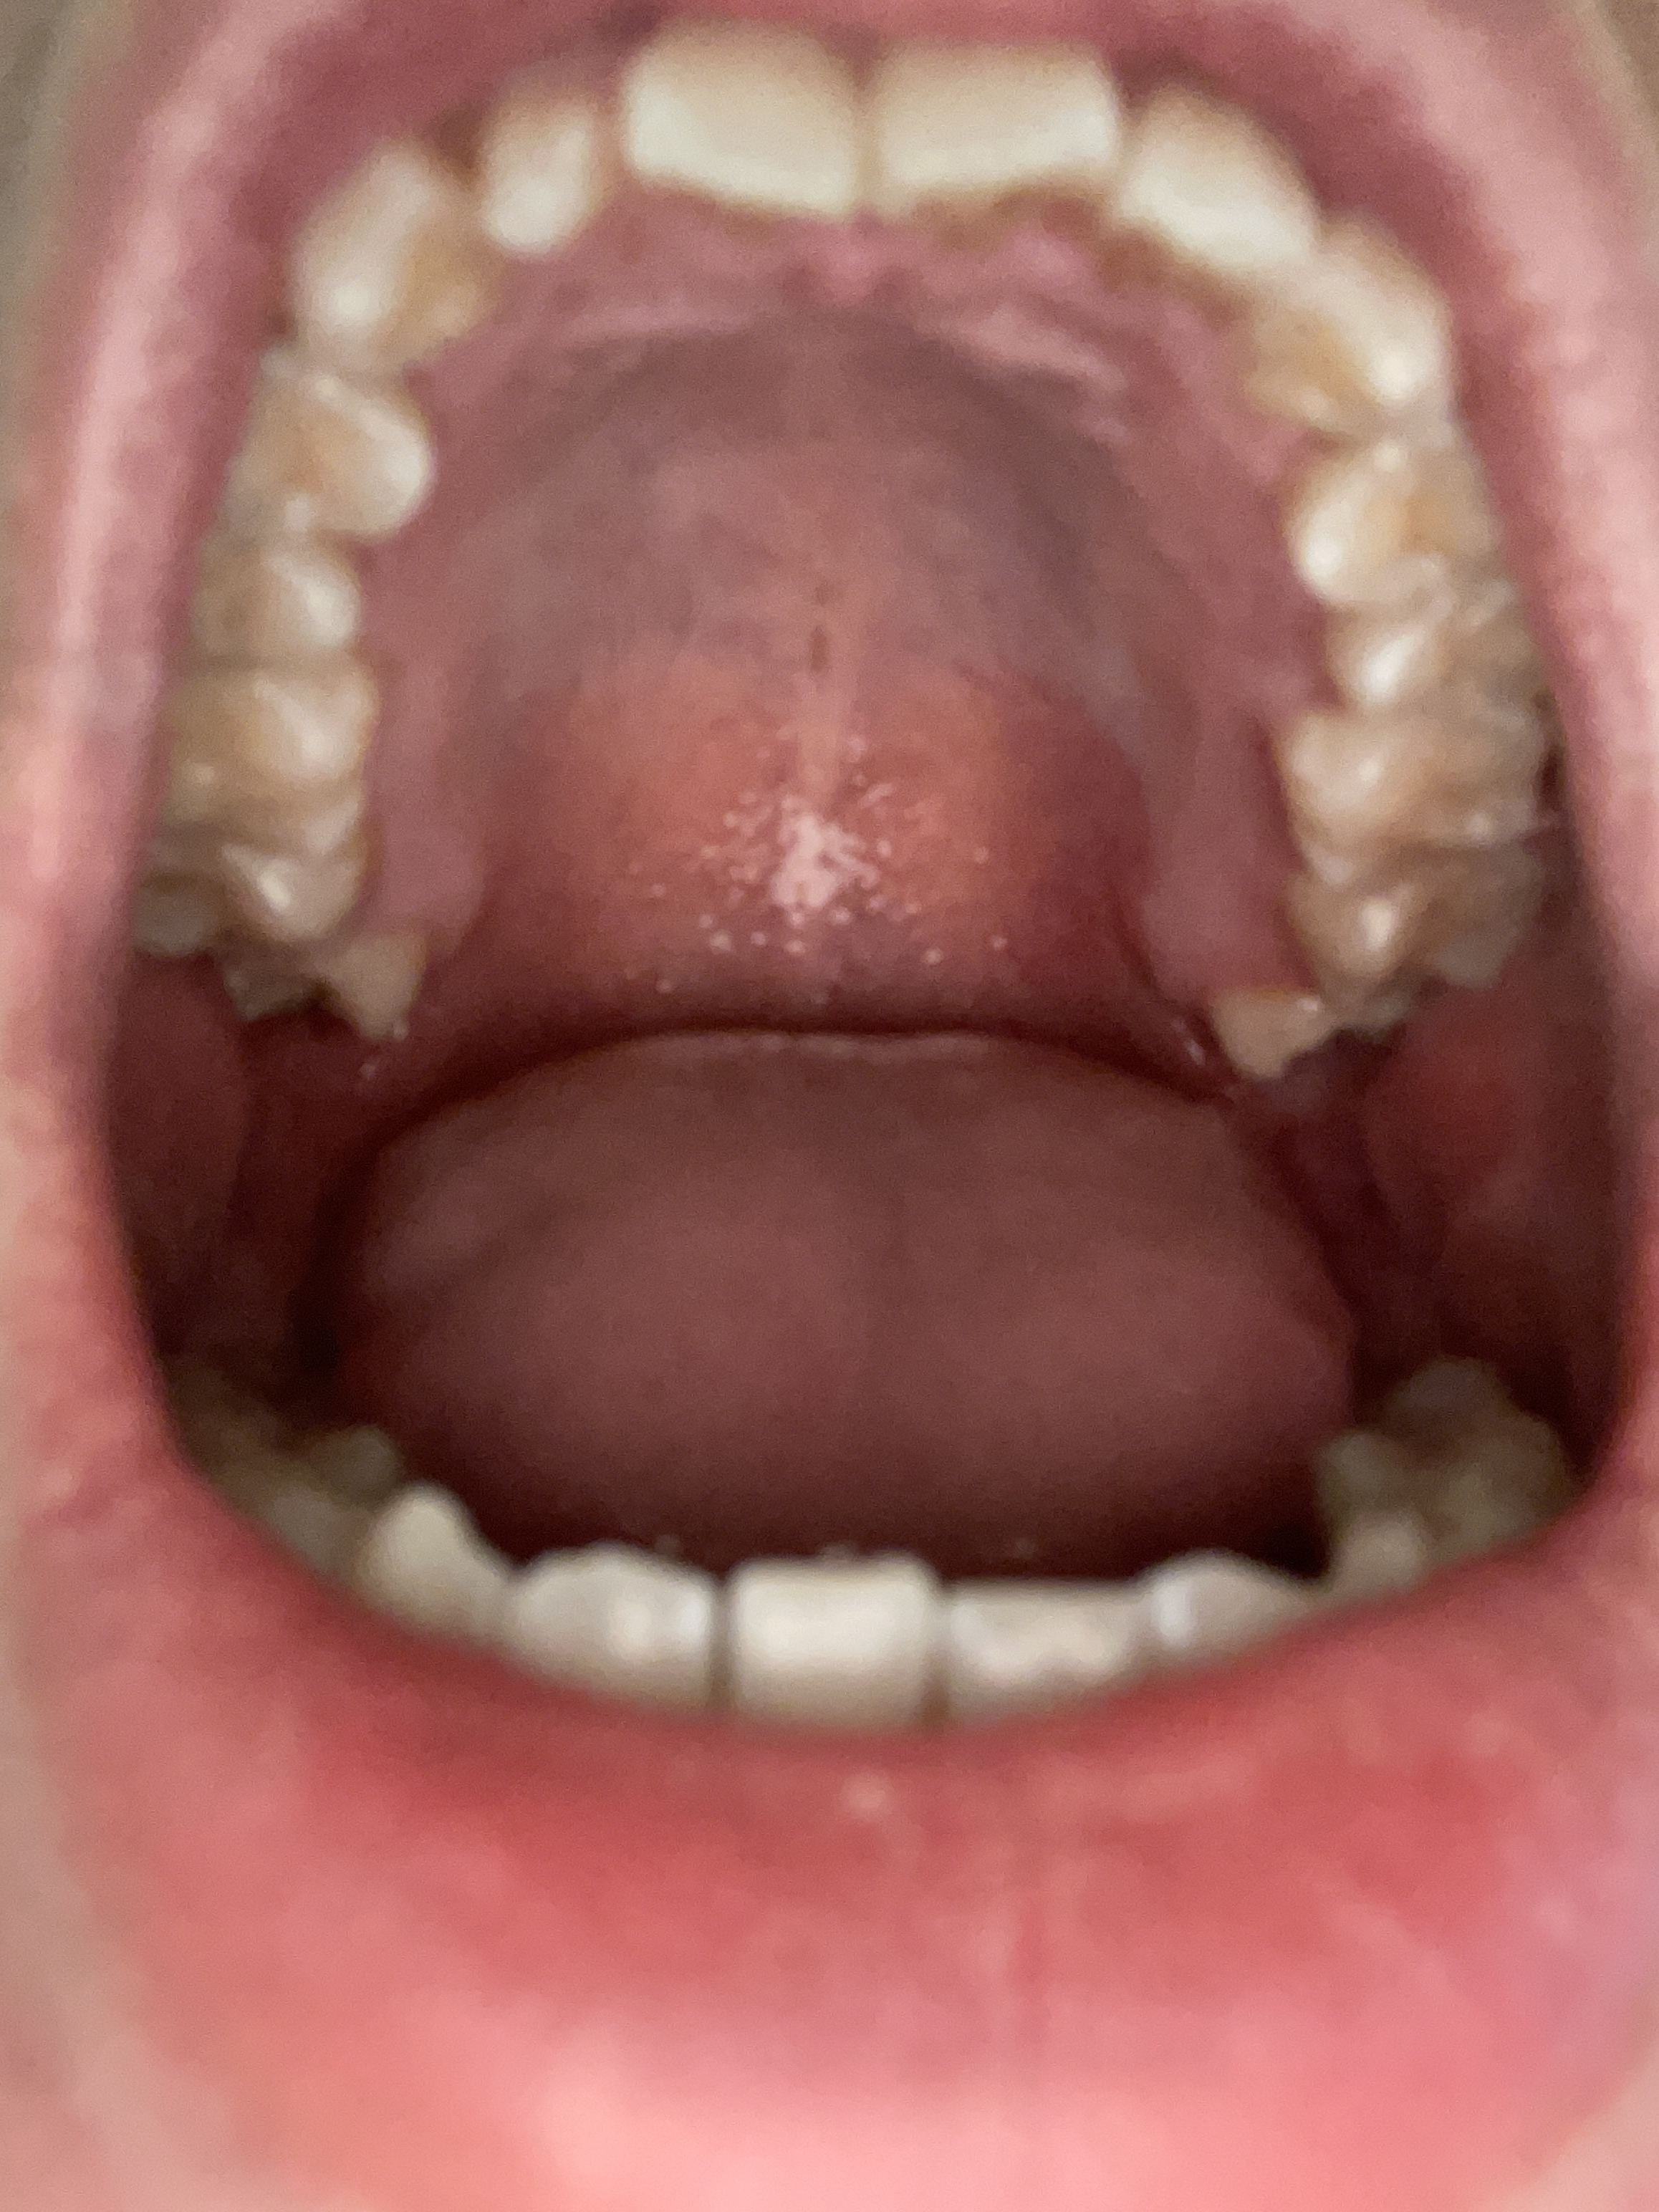teeth: (617, 14, 852, 221), (293, 145, 493, 380), (1276, 716, 1551, 878), (1263, 212, 1450, 444), (1122, 84, 1314, 289), (873, 52, 1115, 206), (1305, 428, 1504, 606), (244, 350, 427, 533), (484, 1548, 704, 1698), (166, 655, 380, 806), (728, 1562, 934, 1719), (1307, 859, 1542, 991), (943, 1583, 1148, 1723), (1331, 1348, 1547, 1474), (206, 916, 437, 1033), (143, 829, 368, 946), (1333, 580, 1525, 707), (200, 1426, 397, 1550), (477, 84, 608, 253), (1215, 991, 1419, 1085), (342, 1500, 493, 1623), (214, 516, 345, 646), (1345, 1491, 1551, 1571), (1157, 1550, 1302, 1662)
